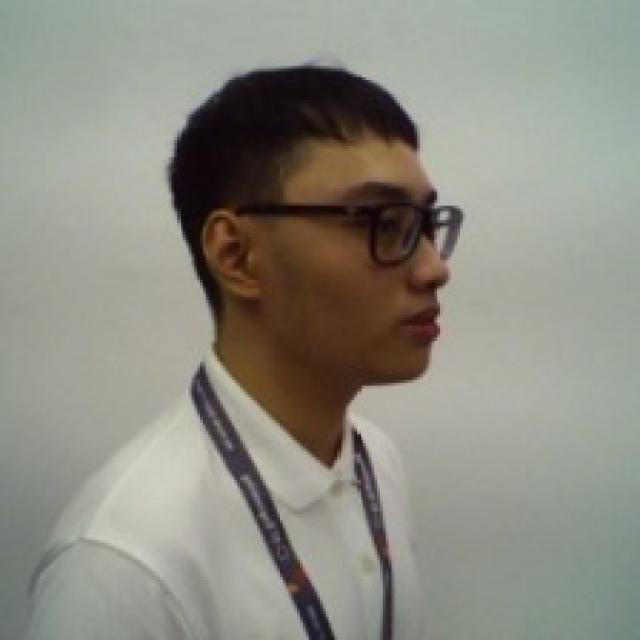no_gloves: (162, 56, 440, 210)
no_hairnet: (194, 214, 452, 393)
